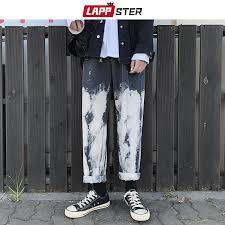pants: (77, 53, 148, 184)
